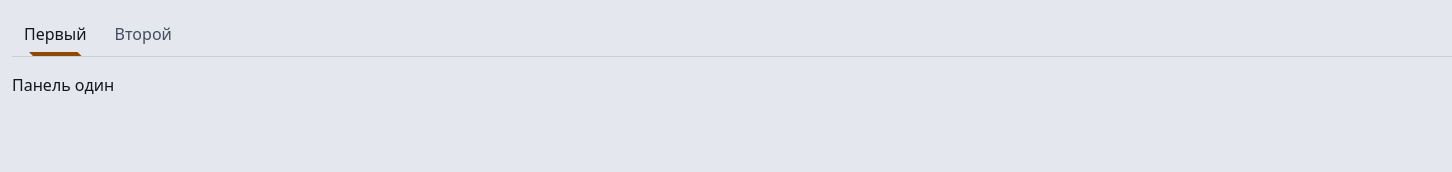
Test case: Tabs › shows the selected panel
Expected: the text "Панель один" is shown, [12,74,114,96]
Step 1. Click the tab "Второй" → x=143, y=34, box [102,12,184,56]
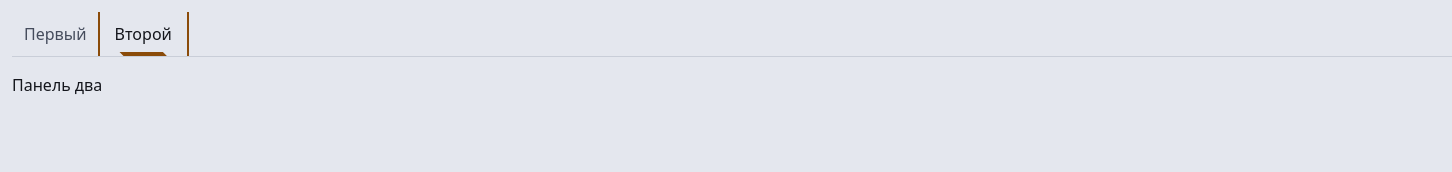
Expected: the text "Панель два" is shown, [12,74,102,96]
